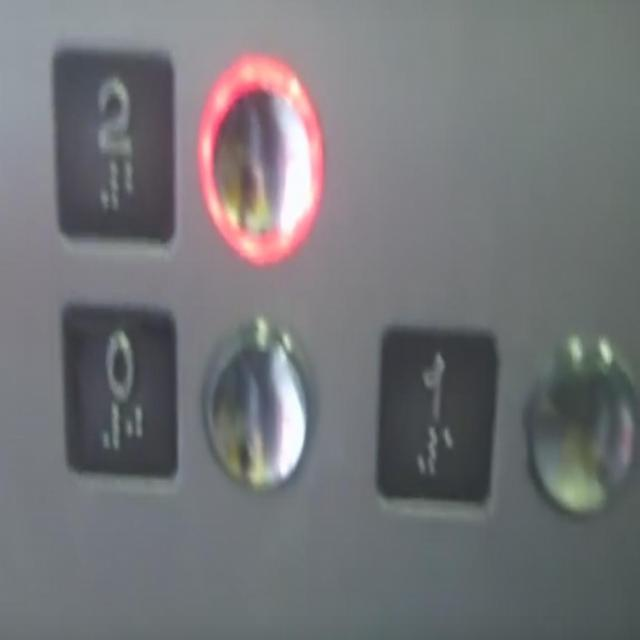0: (54, 297, 187, 491)
1: (371, 317, 502, 512)
2: (47, 38, 180, 255)
empty: (192, 42, 328, 276), (517, 323, 639, 524), (196, 306, 320, 502)
